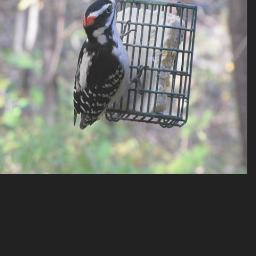Woodpecker: (73, 0, 148, 130)
